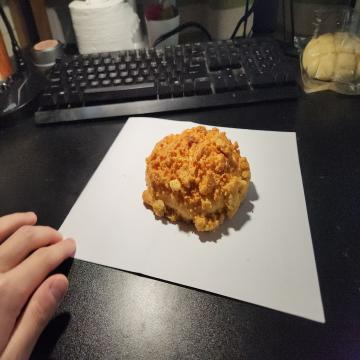soboru_bread: (144, 122, 251, 228)
